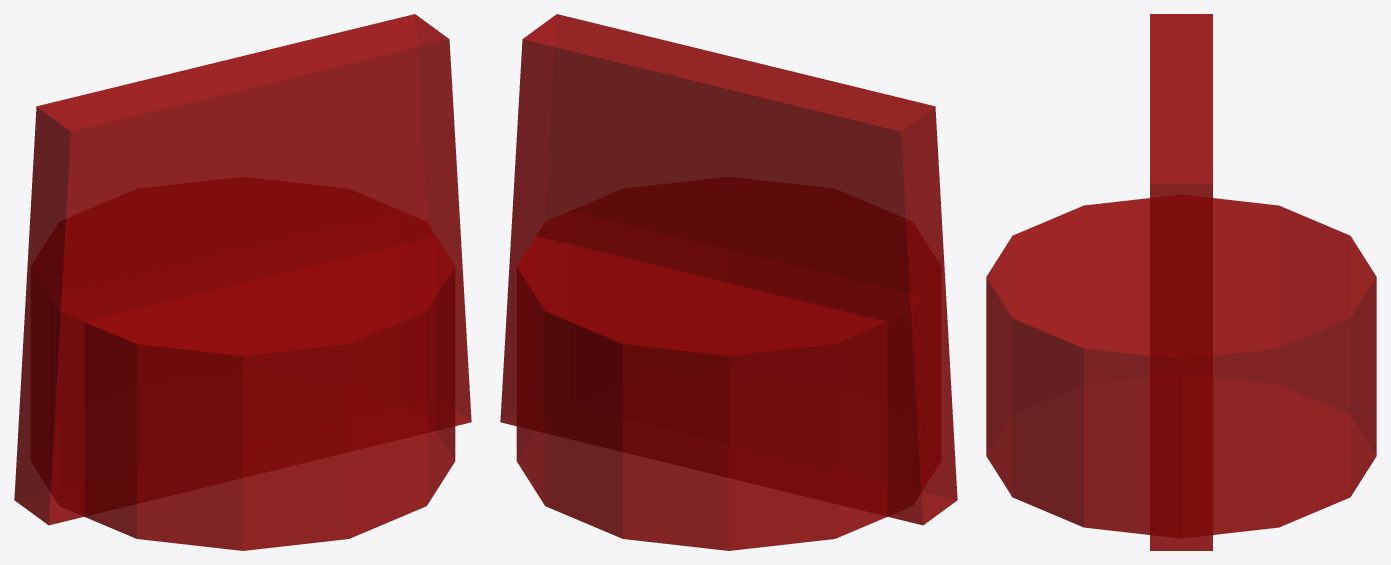
File: SM_Bld_Village_Well_01_Collision.fbx
3 views of the same model, side by side, from view 1: azimuth 30°, elevation 25°; view 2: azimuth 150°, elevation 25°; view 3: azimuth 270°, elevation 25° (orthographic). The views are drawn at different scales.
Visible parts, largest first — view 1: SM_Bld_Village_Well_01_Collision; view 2: SM_Bld_Village_Well_01_Collision; view 3: SM_Bld_Village_Well_01_Collision.
Boxes of the visible parts, left/top/right/bottom form: SM_Bld_Village_Well_01_Collision: left=14, top=14, right=471, bottom=550; SM_Bld_Village_Well_01_Collision: left=500, top=14, right=957, bottom=550; SM_Bld_Village_Well_01_Collision: left=986, top=14, right=1376, bottom=550.
Bounding box in the file's own units: 264 × 232 × 230.
